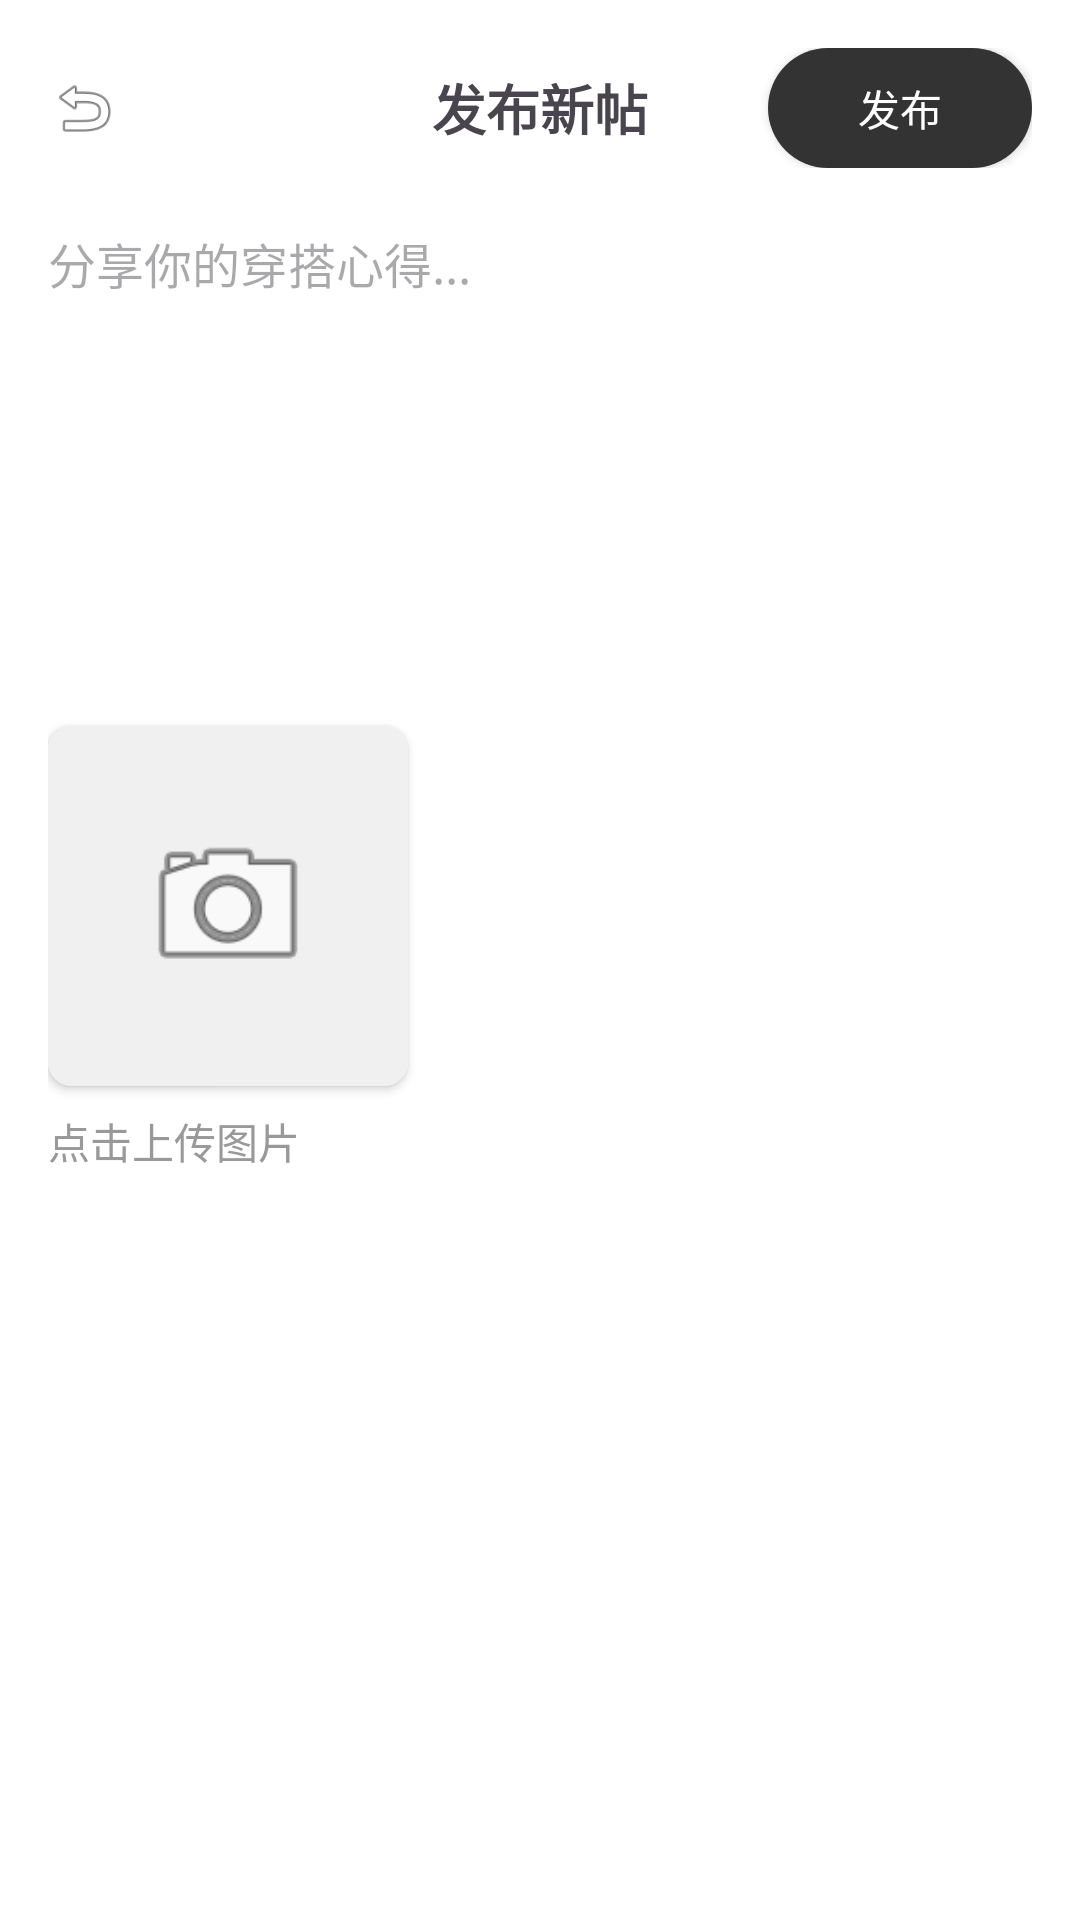

Where icons sit on this 1080w x 1920h app screen, as bbox(x1, y1, x2, y2):
revert: bbox(59, 85, 111, 132)
